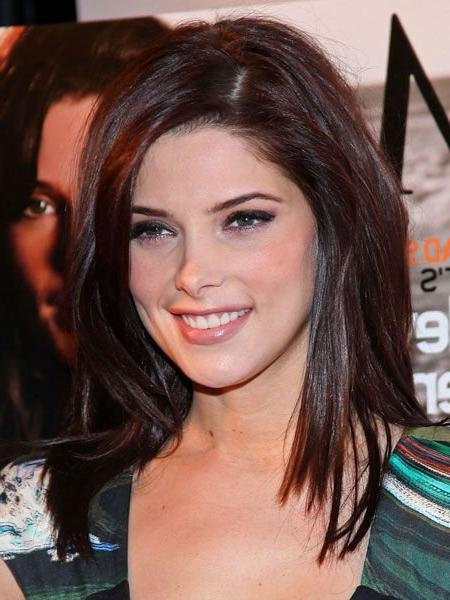Sober: (138, 144, 308, 372)
